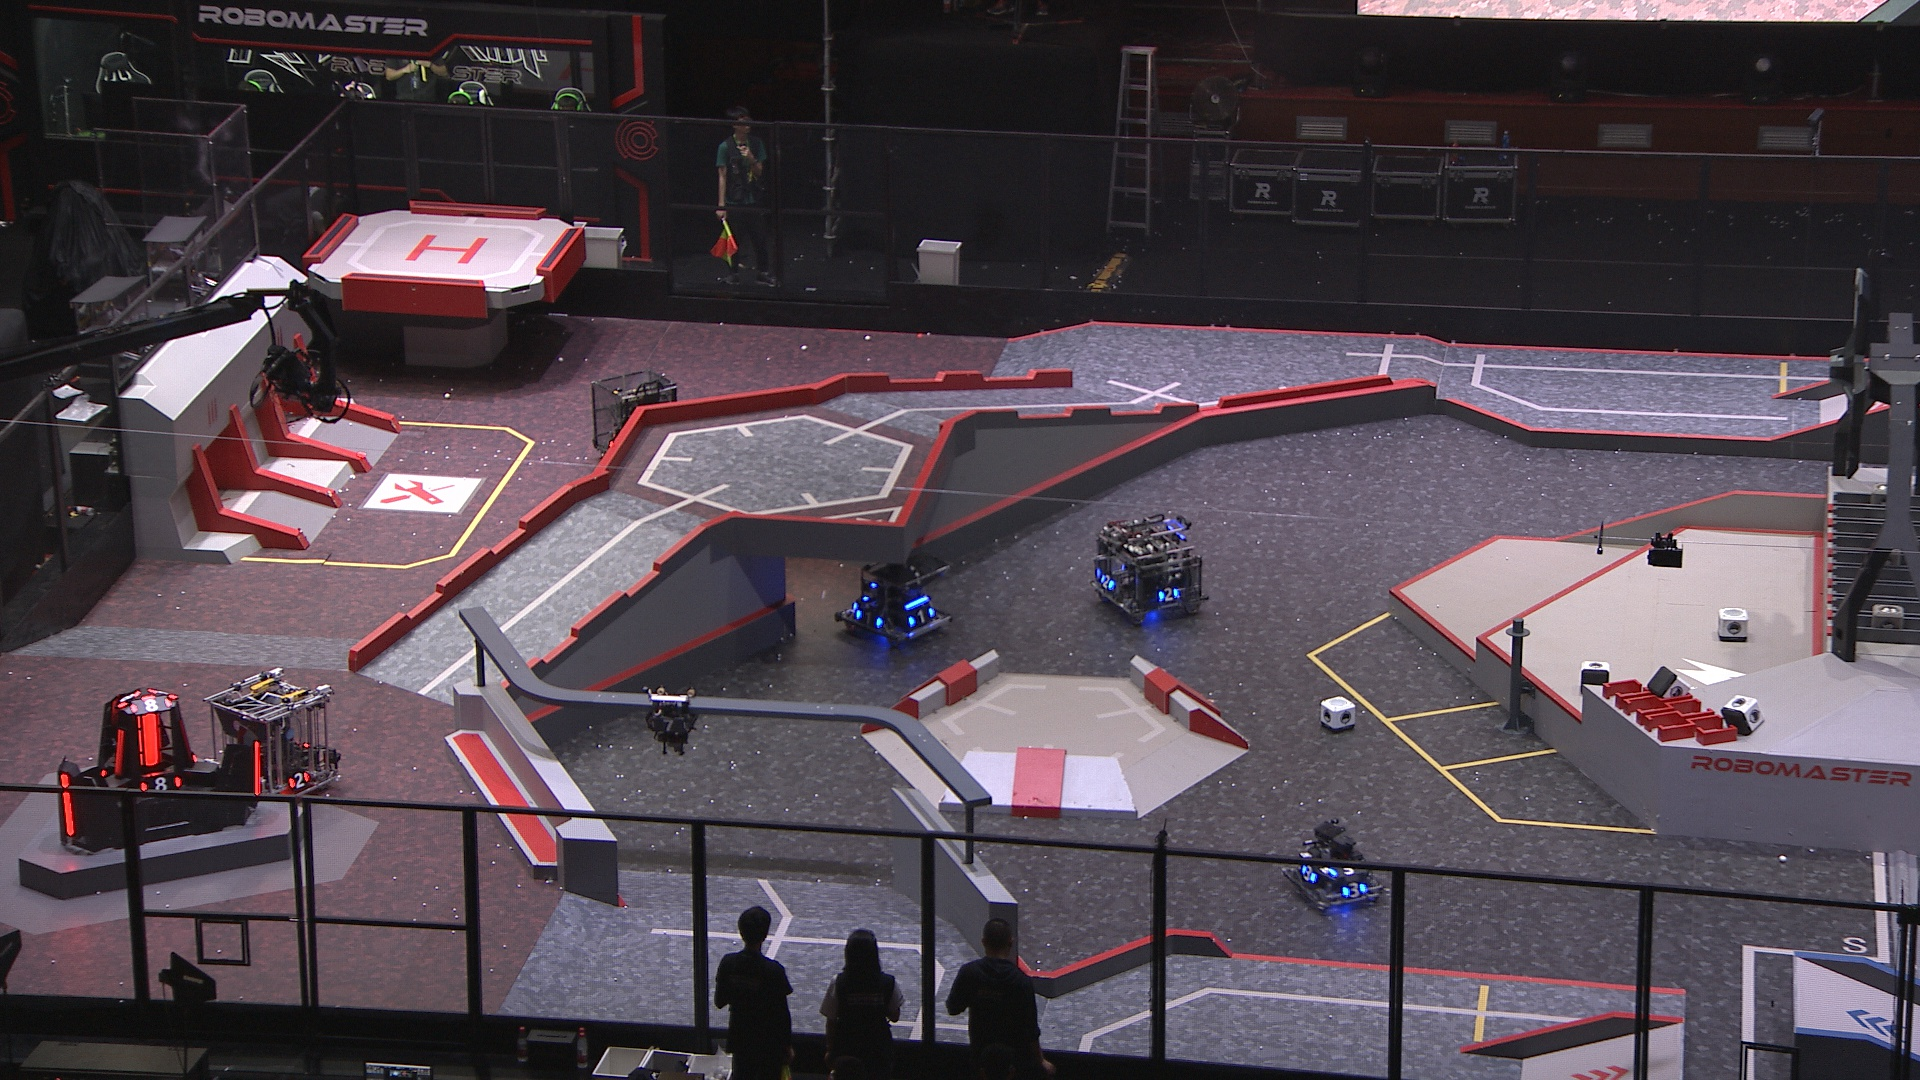armor: (135, 712, 164, 765), (61, 771, 76, 837), (136, 775, 183, 794), (129, 698, 175, 713), (111, 731, 127, 773), (650, 717, 688, 735), (287, 770, 314, 793), (115, 688, 141, 711), (907, 607, 936, 626), (253, 740, 262, 796), (855, 611, 884, 628), (1338, 882, 1367, 899), (1155, 588, 1179, 605), (1328, 864, 1358, 877), (1300, 865, 1320, 884), (1097, 572, 1117, 589)
base: (49, 684, 264, 851)
car: (202, 666, 342, 806), (1092, 510, 1207, 621), (832, 551, 959, 645), (1282, 818, 1386, 913), (588, 371, 684, 465)
watcher: (645, 688, 703, 756)
